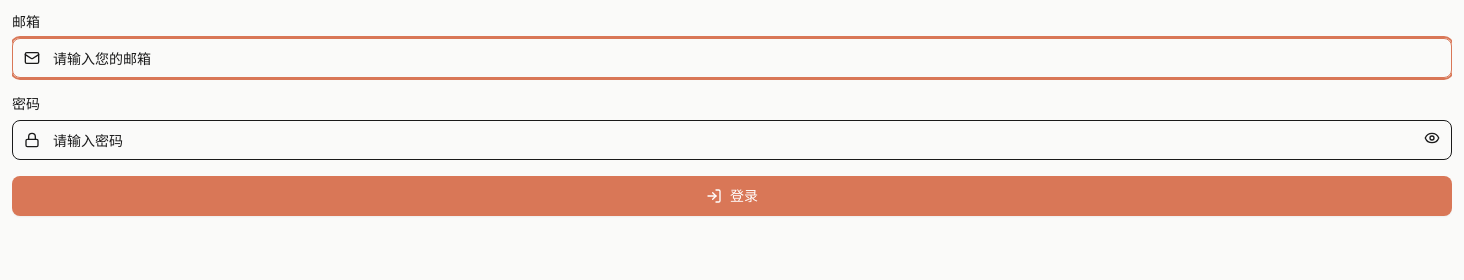
Test: LoginForm 组件 › 输入后清除对应错误
Step 1. Click the button "登录" → (732, 196), box [12,176,1452,216]
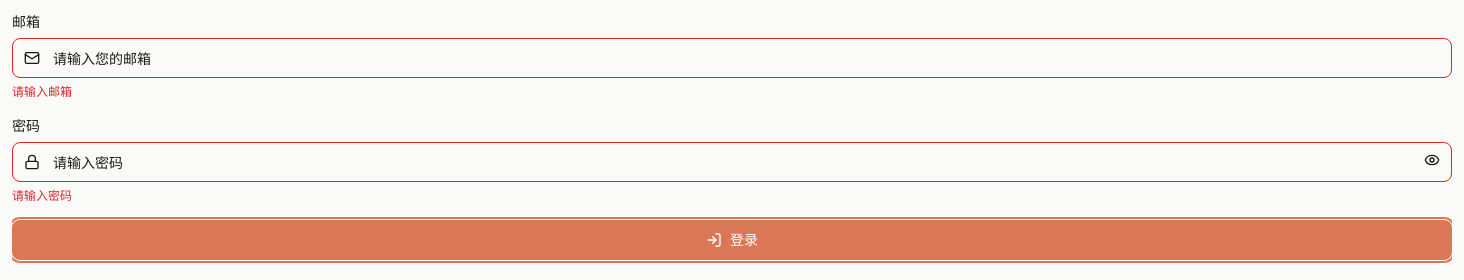
expect the text "请输入邮箱" is shown: met, box [12,84,72,99]
Note:  输入后错误消失
Step 2. Type "a" into the field with placeholder "请输入您的邮箱" → (732, 58), box [12,38,1452,78]
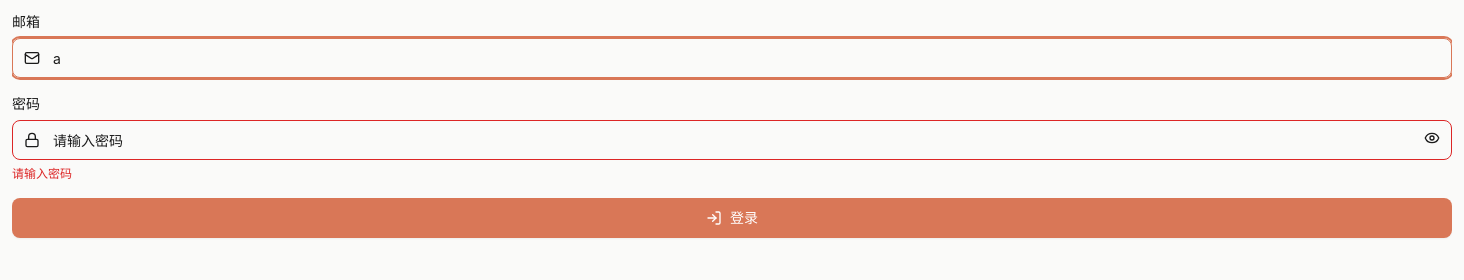
expect the text "请输入邮箱" is gone: met
